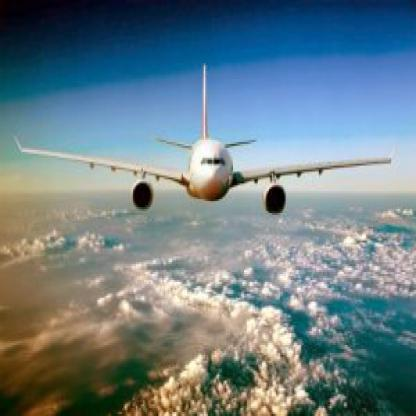CIV_Plane: (10, 59, 393, 227)
